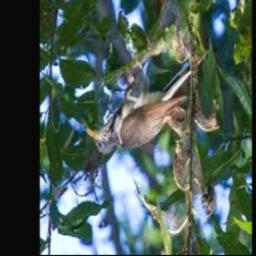Cuckoo: (87, 47, 210, 154)
